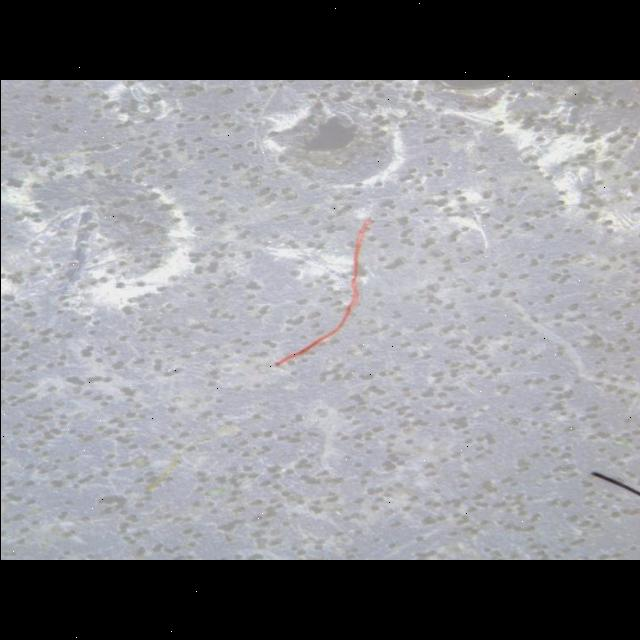Fibre: (244, 214, 390, 376)
